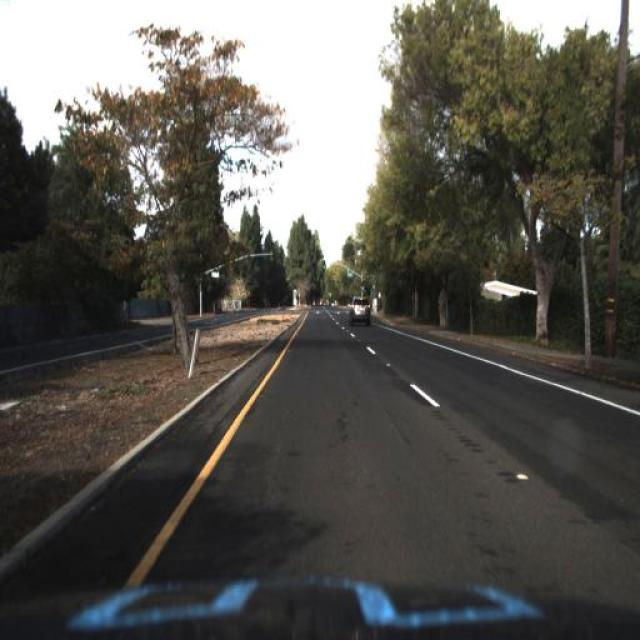car: (348, 294, 373, 328)
trafficLight-GreenLeft: (320, 256, 328, 276), (361, 278, 367, 298)
